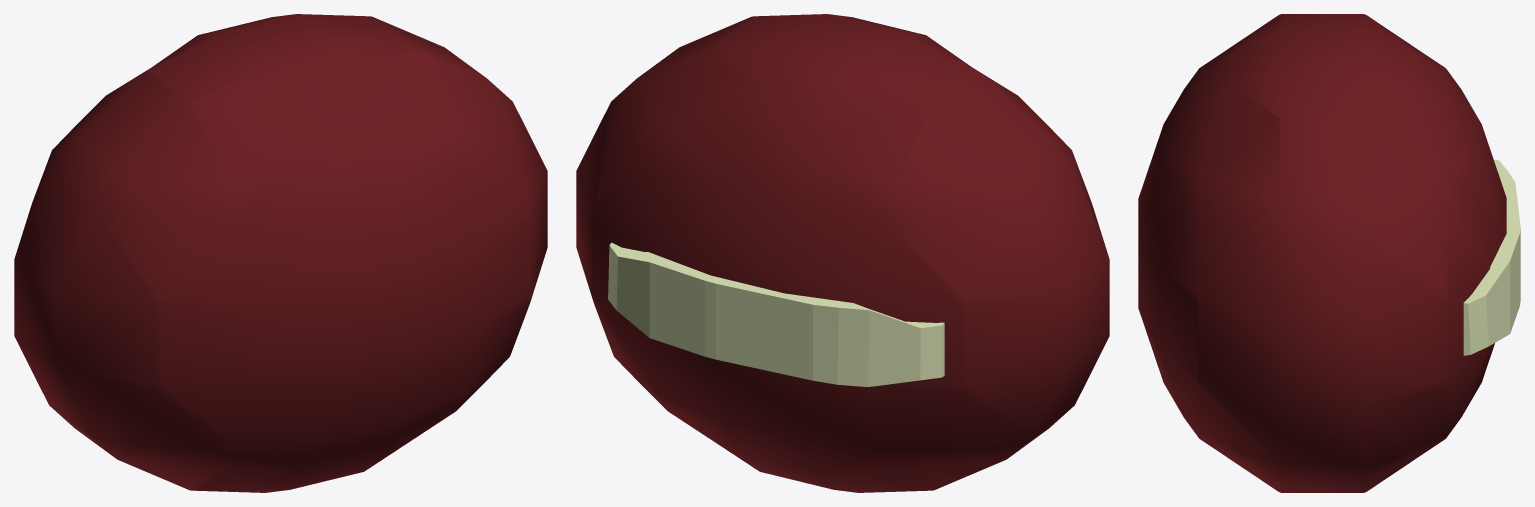
File: RedBean.fbx
The picture shows the model from 3 angles, left to right: view 1: azimuth 30°, elevation 25°; view 2: azimuth 150°, elevation 25°; view 3: azimuth 270°, elevation 25°; orthographic projection. The views are drawn at different scales.
Visible parts, largest first — view 1: Mball.001; view 2: Mball.001; view 3: Mball.001.
Part boxes in pixels (left/top/right/bottom): Mball.001: left=14, top=14, right=547, bottom=492; Mball.001: left=576, top=14, right=1109, bottom=492; Mball.001: left=1138, top=14, right=1520, bottom=492.
Size of the model in its own units: 61.52 by 51.52 by 43.13.
